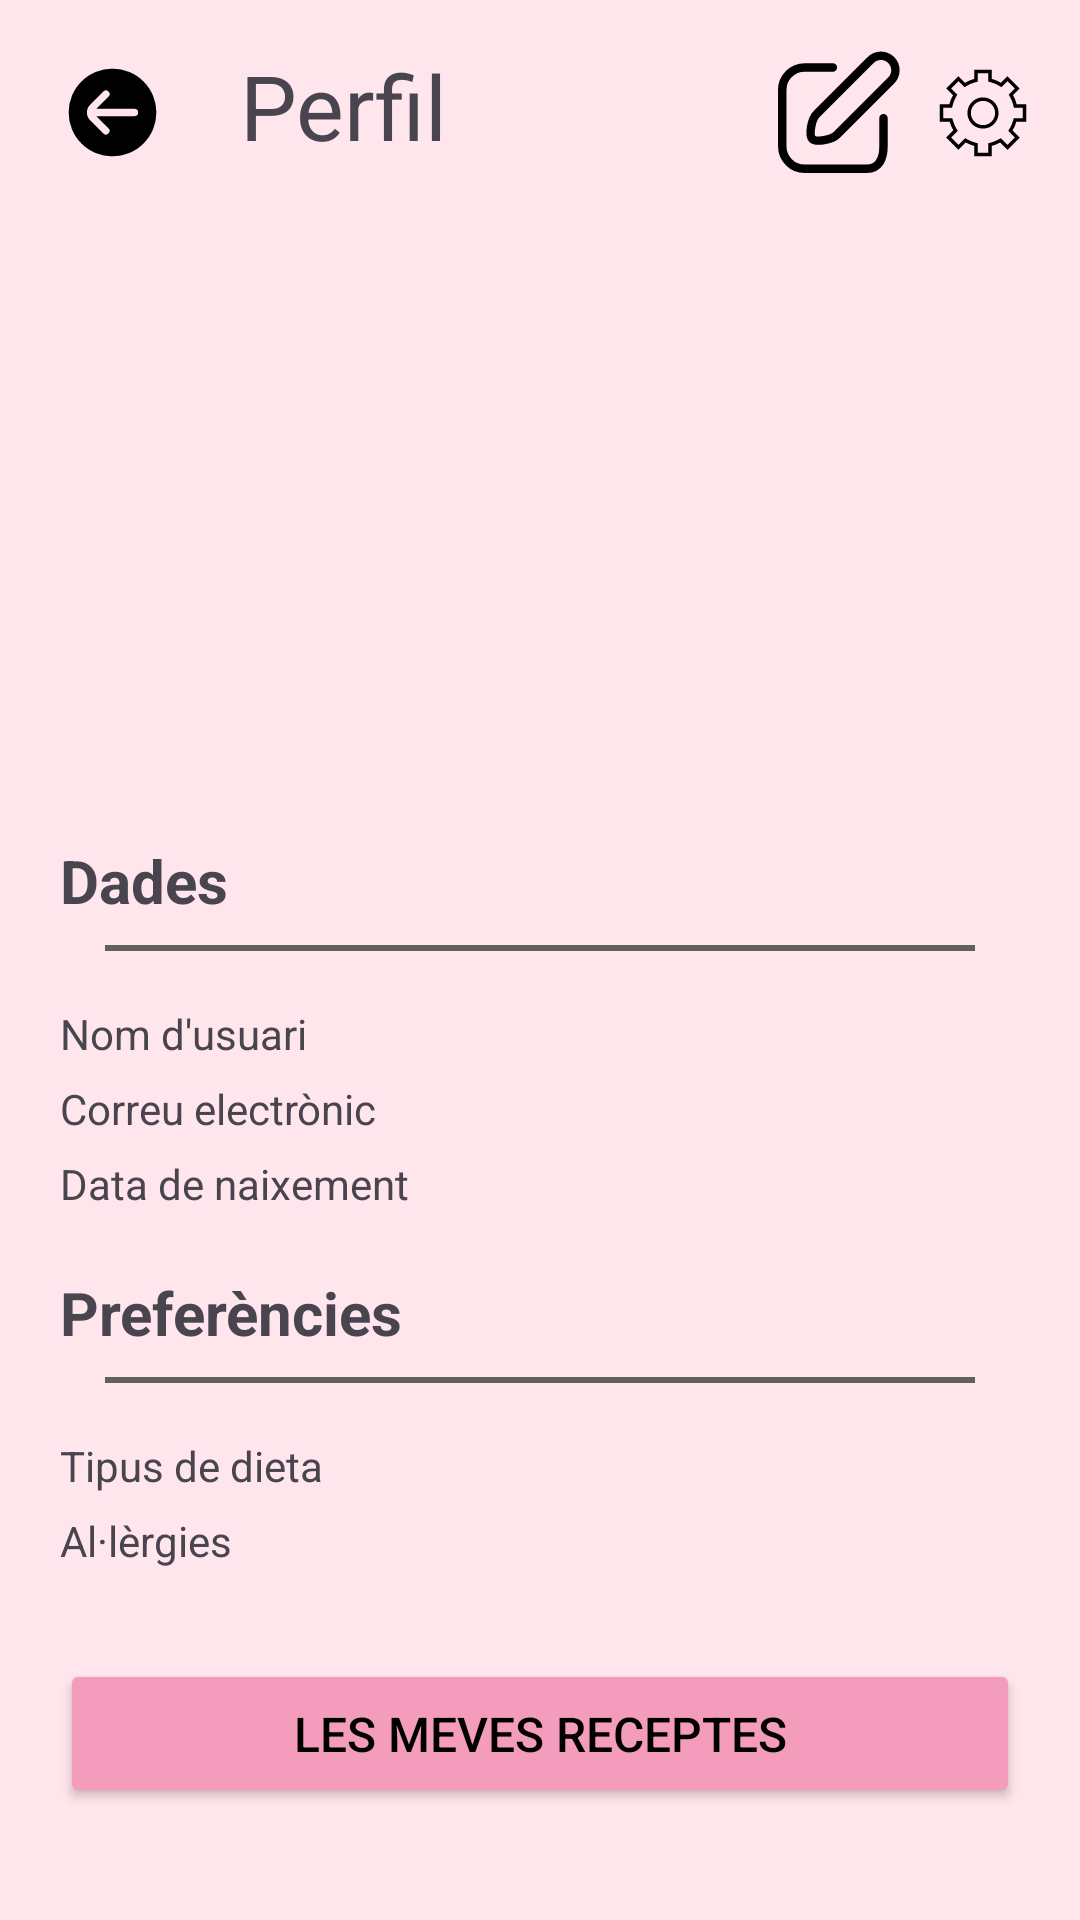

Icon click points for this 1080x1920 phone screenshot, format point (x, y):
config: point (983, 113)
draw volver: point (112, 112)
edit: point (839, 112)
